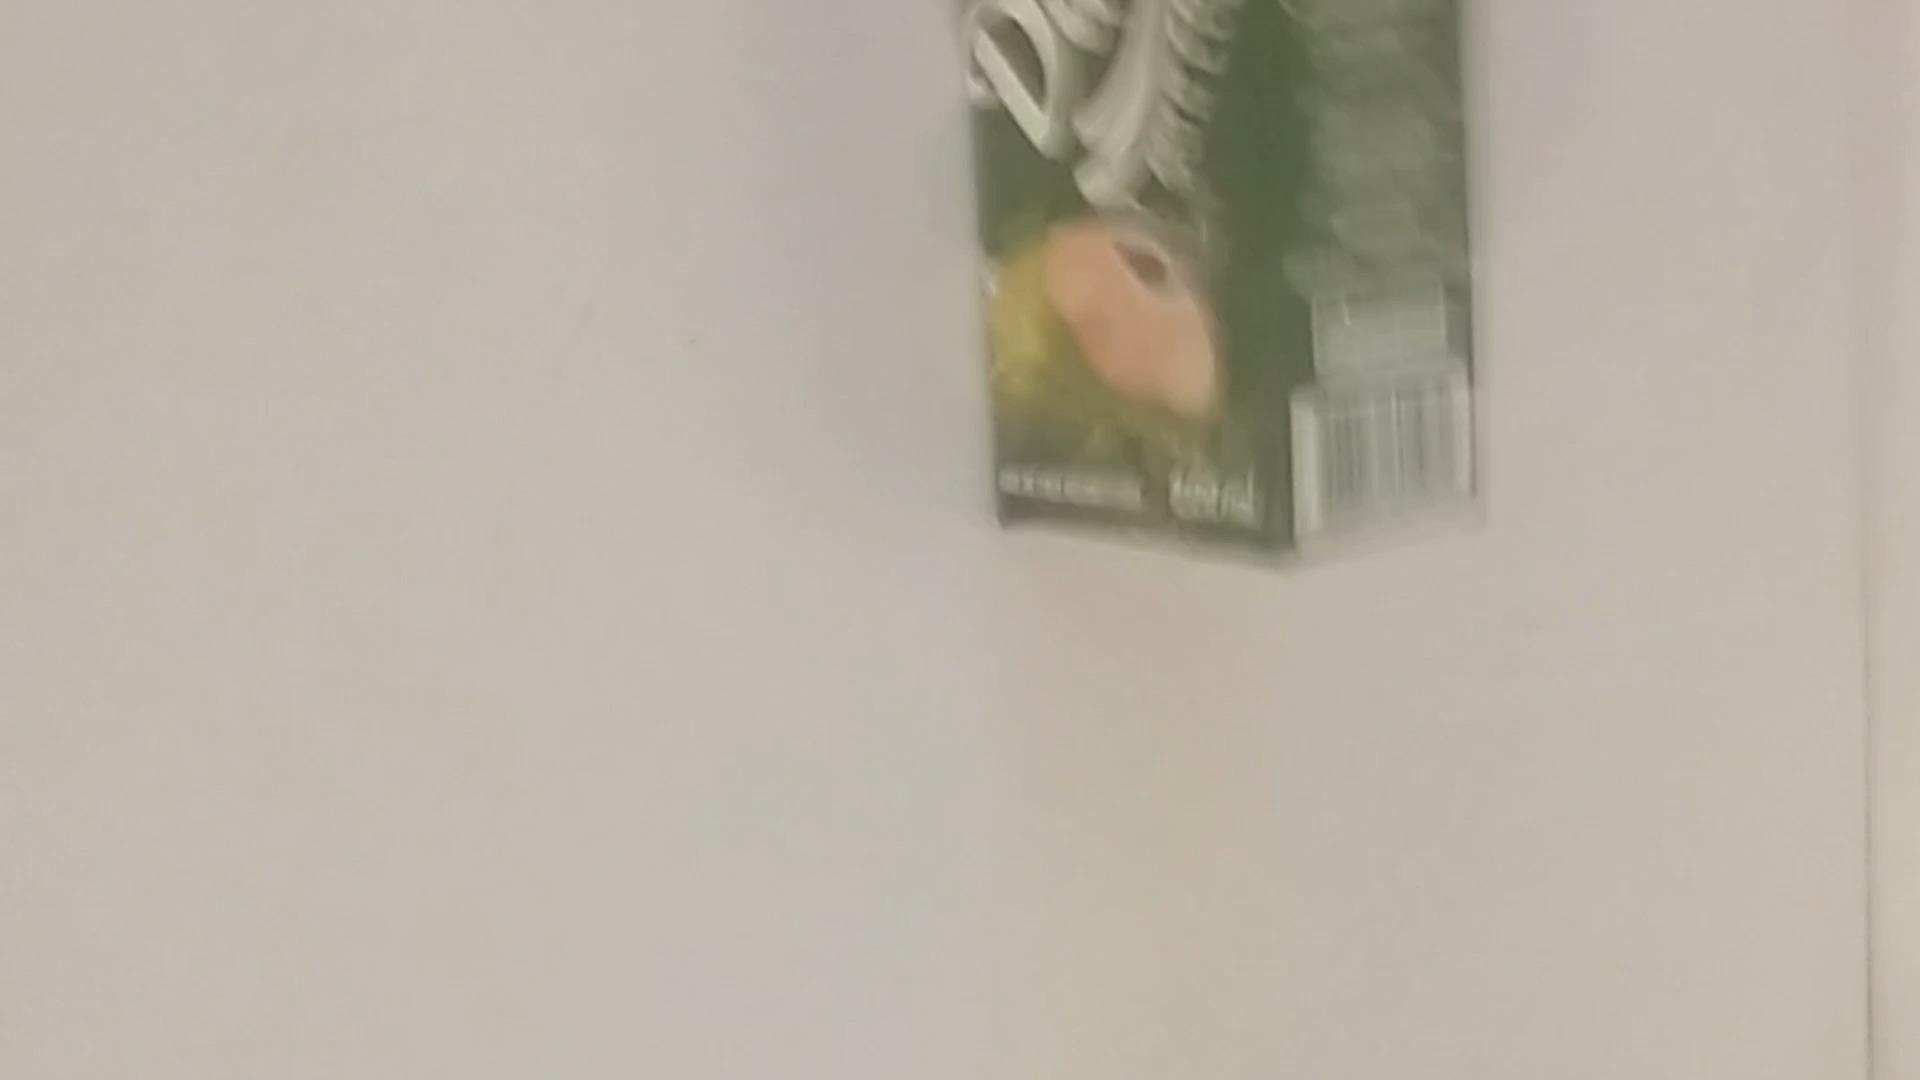coco: (982, 0, 1487, 560)
